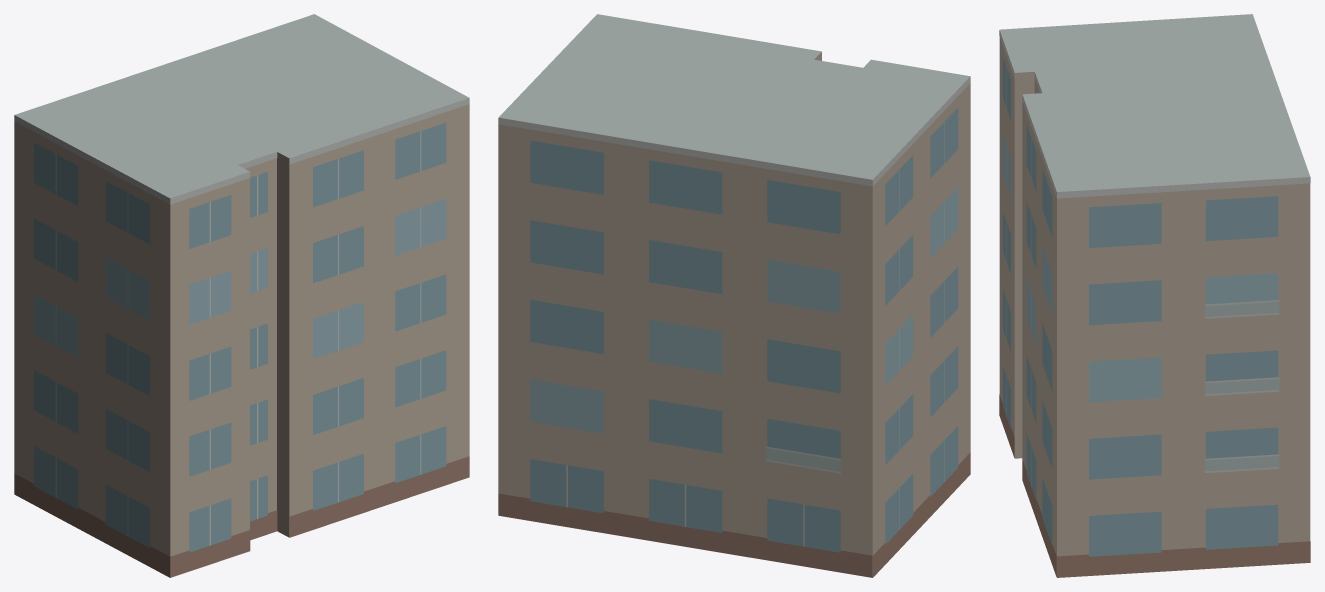
Rendered from survey-upis-33040927.glb.
3 renders of one model, left to right at view 1: azimuth 30°, elevation 25°; view 2: azimuth 150°, elevation 25°; view 3: azimuth 270°, elevation 25°, orthographic. The views are drawn at different scales.
Parts seen in each view (by area): view 1: survey-upis-33040927.tmp; view 2: survey-upis-33040927.tmp; view 3: survey-upis-33040927.tmp.
Boxes of the visible parts, left/top/right/bottom form: survey-upis-33040927.tmp: left=14, top=14, right=469, bottom=577; survey-upis-33040927.tmp: left=498, top=14, right=970, bottom=577; survey-upis-33040927.tmp: left=999, top=14, right=1310, bottom=577.
Size of the model in its own units: 14.67 by 14.8 by 10.83.
